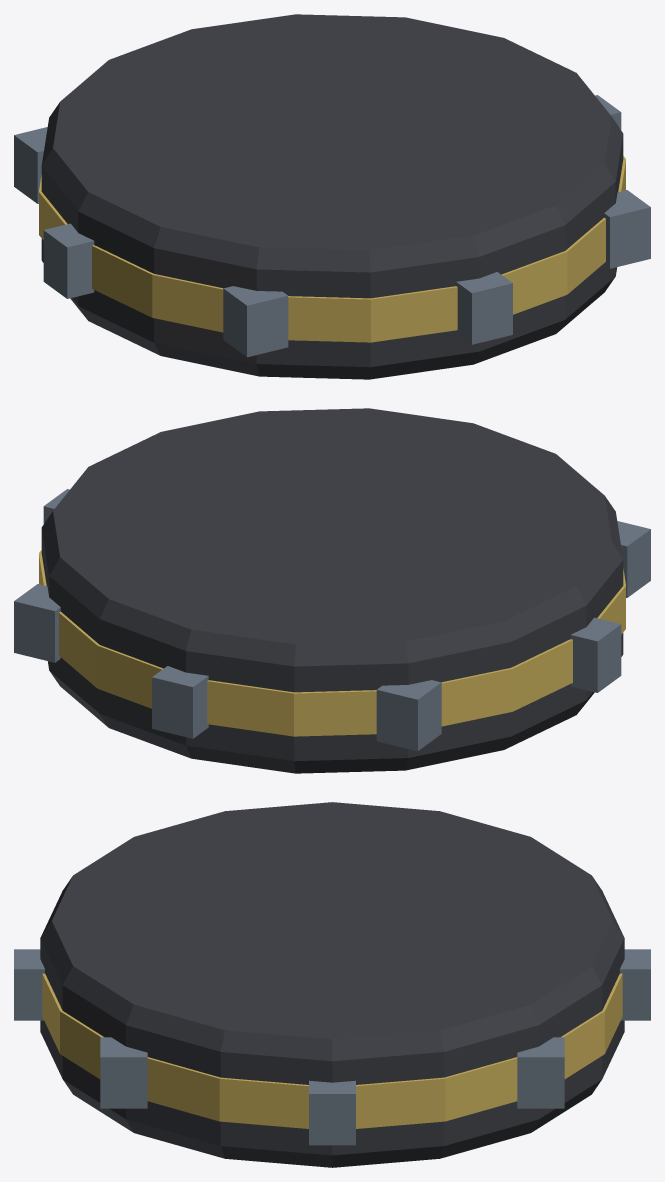
The model's file is Dec_S.fbx.
3 views of the same model, one above another, from view 1: azimuth 30°, elevation 25°; view 2: azimuth 150°, elevation 25°; view 3: azimuth 270°, elevation 25° (orthographic).
Parts seen in each view (by area): view 1: Dec_S; view 2: Dec_S; view 3: Dec_S.
Boxes of the visible parts, x1,y1,x2,y2 form: Dec_S: [14, 14, 650, 379]; Dec_S: [14, 408, 650, 773]; Dec_S: [14, 802, 650, 1167].
Size of the model in its own units: 1.35 by 0.3 by 1.35.
Materials: 1 (1 with a texture image).
